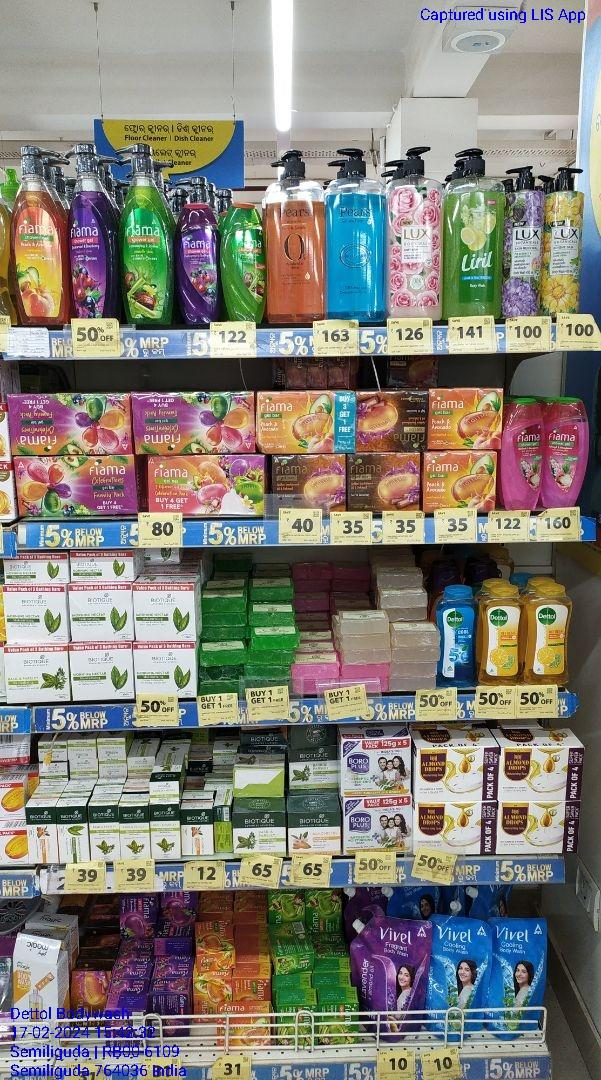Dettol_Bodywash_Cool: (437, 584, 478, 685)
Dettol_Bodywash_Refresh: (524, 584, 568, 686), (482, 584, 521, 685)
Fiama_Shower_Gel_Lemongrass_and_Jojoba_250ML: (221, 200, 266, 321)
Fiama_Shower_Gel_Patchouli_and_Macadamia_250ML: (545, 396, 588, 507), (502, 398, 544, 510)
